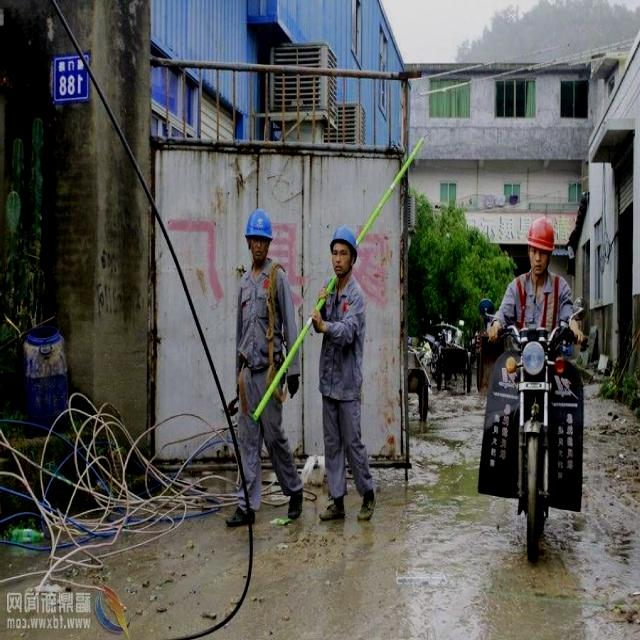face_nomask: (330, 242, 355, 281), (250, 234, 271, 266), (528, 246, 550, 276)
hand_glove: (284, 368, 303, 400)
hand_noglove: (306, 309, 328, 334), (482, 318, 502, 342), (567, 318, 584, 343)
head_helmet: (247, 208, 273, 234), (528, 220, 554, 246), (330, 226, 358, 243)
person: (493, 222, 579, 453), (233, 210, 283, 521), (320, 223, 368, 519)
shoes: (221, 497, 260, 532), (355, 482, 379, 524), (316, 494, 348, 523), (285, 481, 307, 523)
